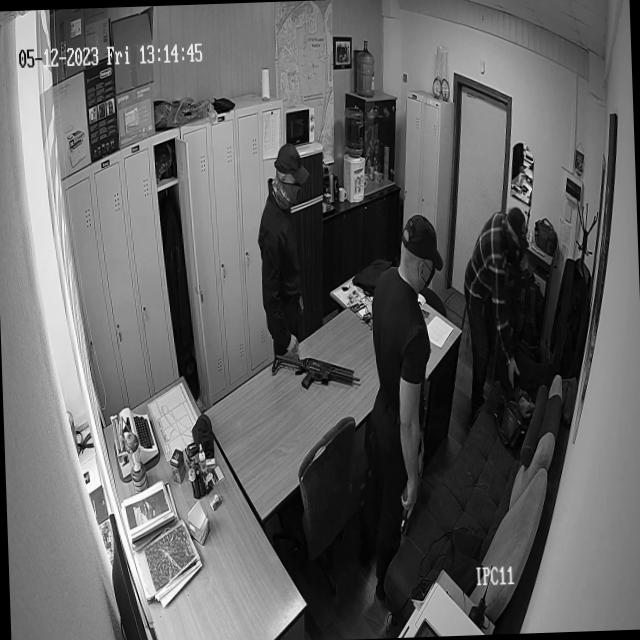gun: (271, 350, 361, 392), (516, 206, 540, 292), (398, 483, 416, 532)
person: (254, 143, 312, 354)
person with a gun: (365, 217, 442, 526), (462, 204, 520, 381)
